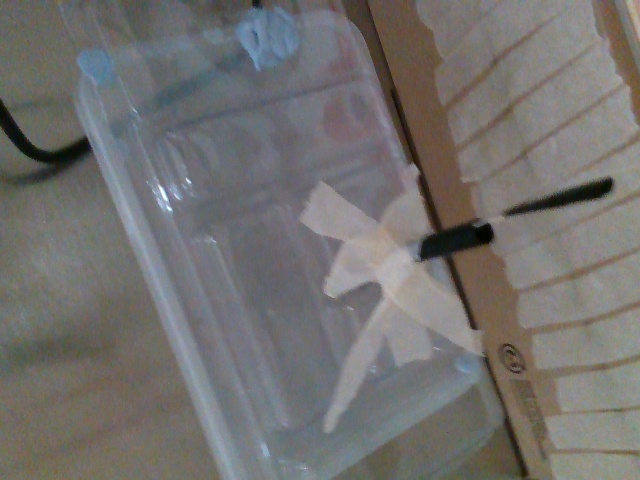test_strip: (475, 175, 613, 227)
